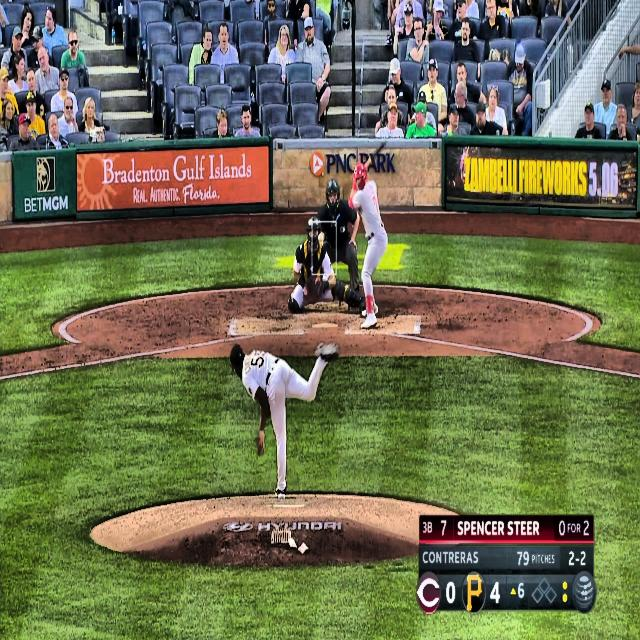baseball: (317, 232, 323, 243)
